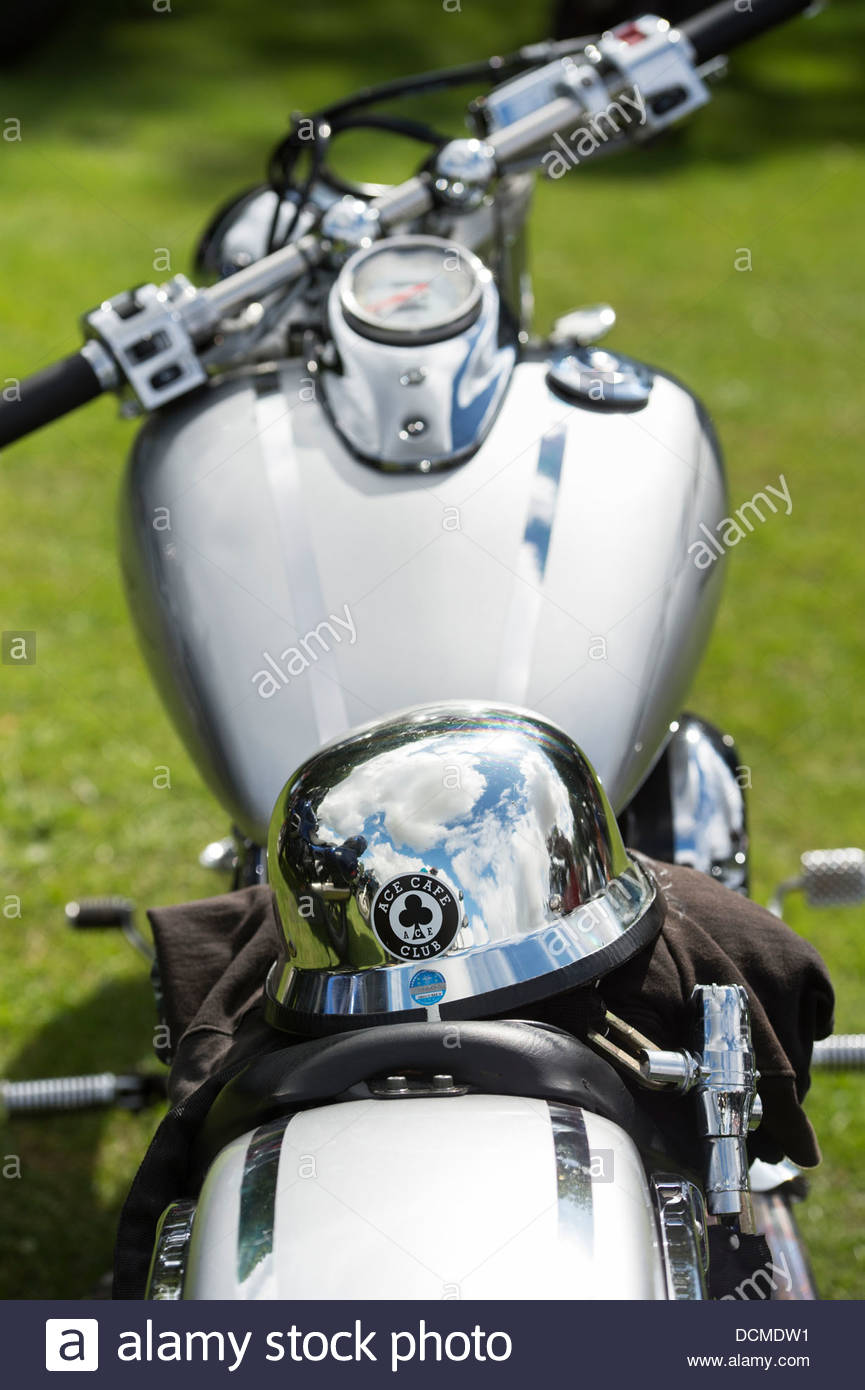with_helmet: (234, 690, 670, 1034)
